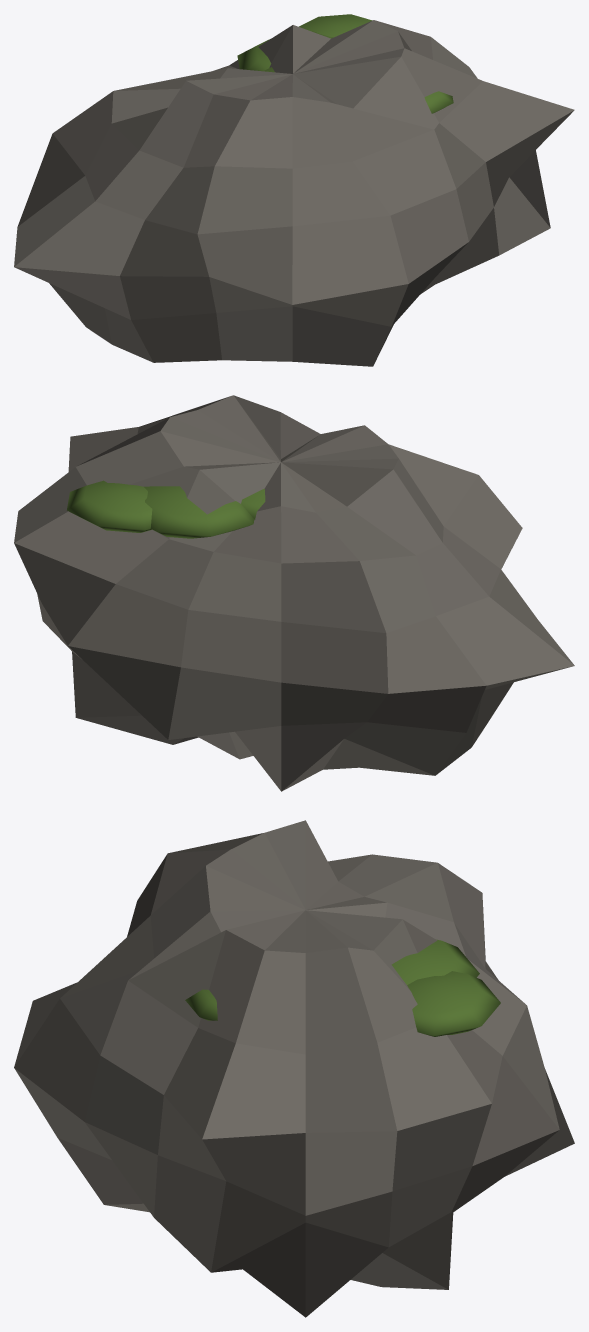
Rendered from feldstein_2.glb.
3 views of the same model, one above another, from view 1: azimuth 30°, elevation 25°; view 2: azimuth 150°, elevation 25°; view 3: azimuth 270°, elevation 25° (orthographic). The views are drawn at different scales.
Visible parts, largest first — view 1: Sphere; view 2: Sphere; view 3: Sphere.
Boxes of the visible parts, box(x1,y1,x2,y2) form: Sphere: box(14, 14, 574, 366); Sphere: box(14, 395, 574, 791); Sphere: box(14, 820, 574, 1317).
Bounding box in the file's own units: 1.4 × 0.7373 × 1.04.
